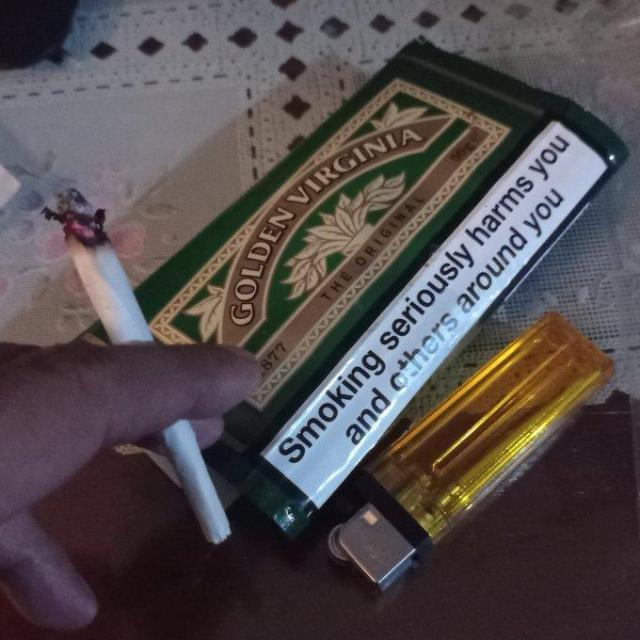rokok: (50, 188, 232, 544)
